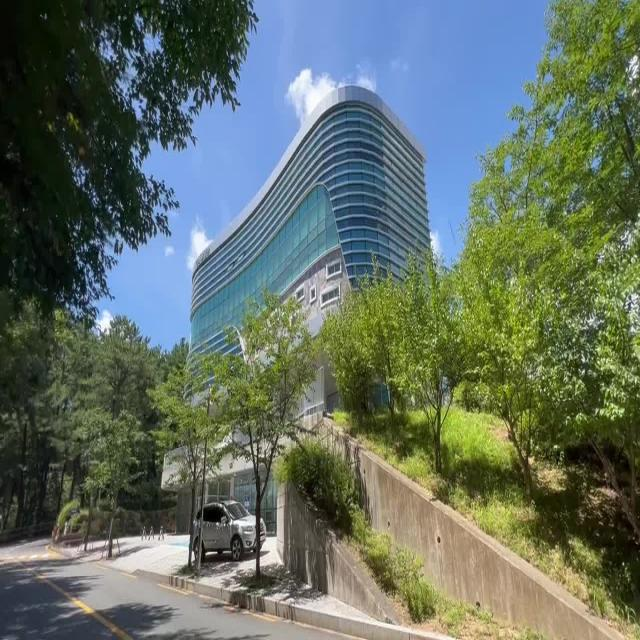building: (188, 88, 428, 308)
